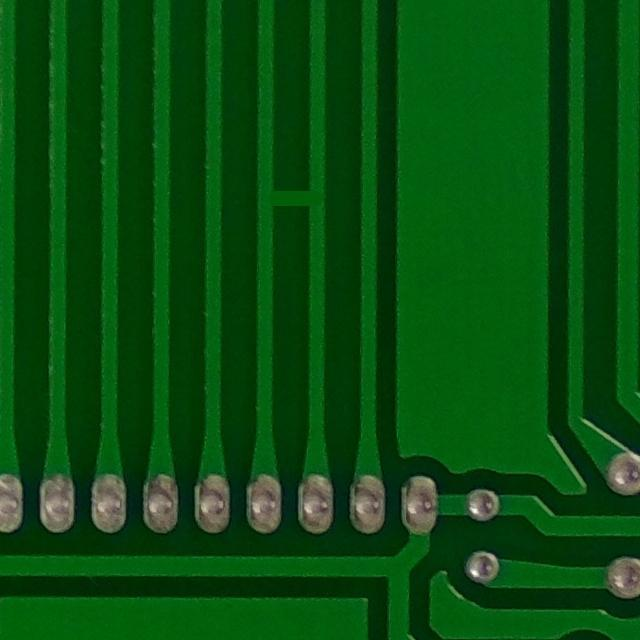short: (247, 163, 333, 232)
